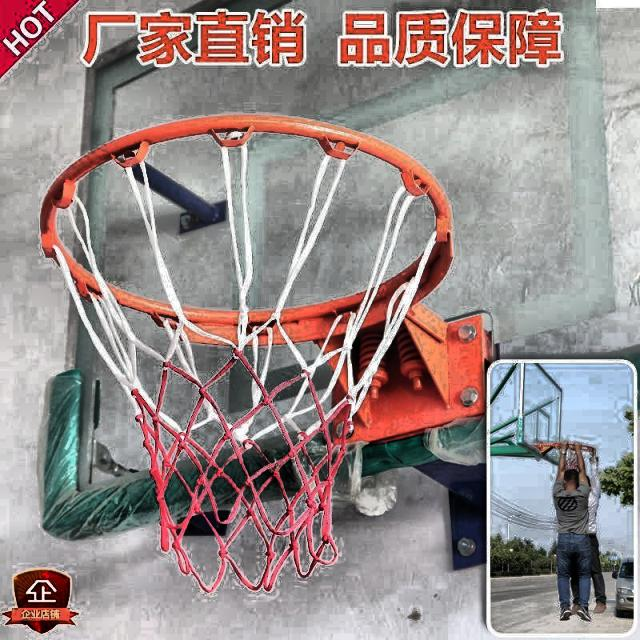rim: (44, 117, 453, 578)
